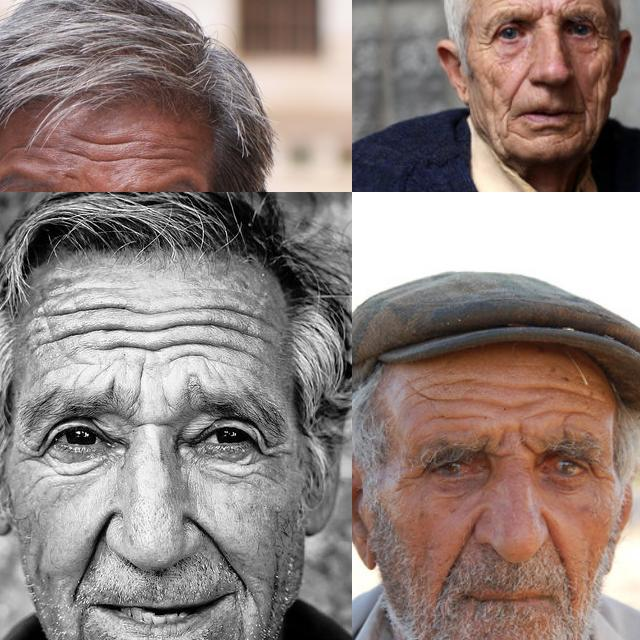chin: (499, 122, 529, 146), (554, 128, 578, 146)
crows_feet: (256, 425, 290, 477), (393, 461, 427, 491), (16, 440, 46, 470), (586, 458, 610, 487), (593, 20, 609, 50), (477, 31, 493, 54)
forehead: (42, 293, 130, 349), (206, 300, 268, 370), (144, 301, 198, 359), (451, 388, 522, 420), (511, 376, 591, 404), (65, 142, 132, 174), (402, 374, 446, 408), (130, 142, 180, 168), (76, 130, 122, 154), (6, 138, 52, 158), (565, 0, 592, 5)
frown_line: (126, 369, 150, 413), (482, 439, 512, 469), (514, 428, 534, 457), (534, 2, 558, 24)
gummy_smile: (72, 512, 110, 596), (198, 516, 244, 582), (441, 516, 474, 584), (544, 516, 568, 588), (503, 72, 529, 108), (571, 77, 587, 107)
masseter: (470, 96, 484, 132), (592, 84, 602, 118)
